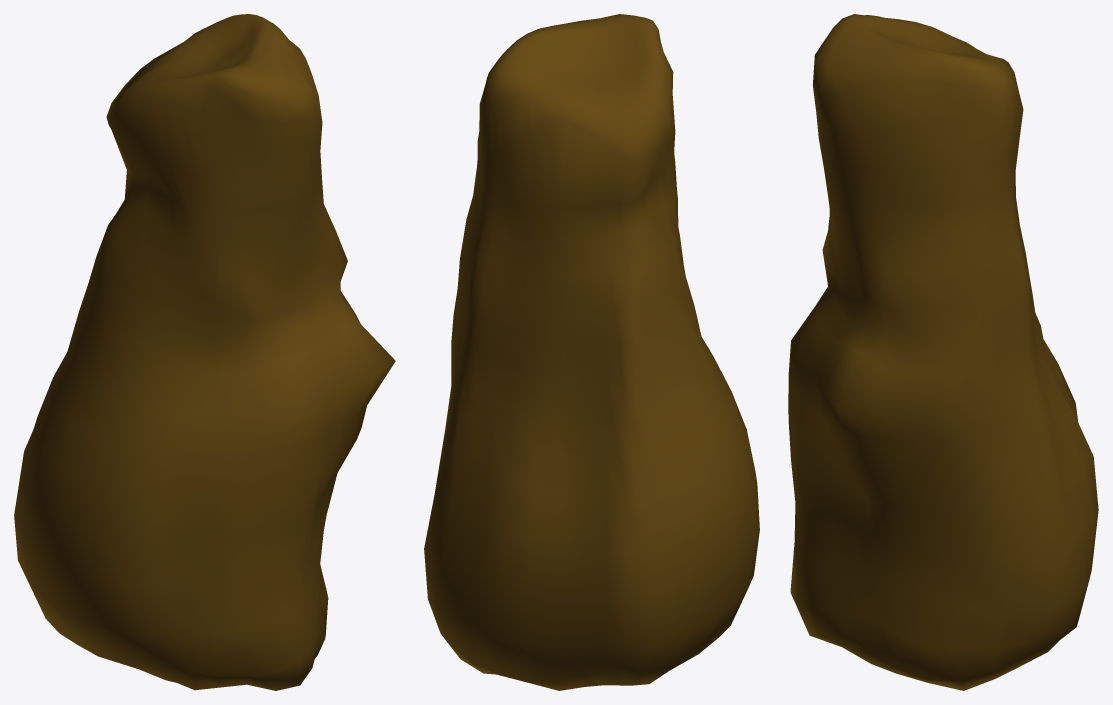
The model's file is obstacle-2.glb.
3 renders of one model, left to right at view 1: azimuth 30°, elevation 25°; view 2: azimuth 150°, elevation 25°; view 3: azimuth 270°, elevation 25°, orthographic. The views are drawn at different scales.
Parts seen in each view (by area): view 1: Plane; view 2: Plane; view 3: Plane.
Part boxes in pixels (x1,y1,x2,y2): Plane: (14, 14, 395, 690); Plane: (424, 14, 759, 690); Plane: (788, 14, 1098, 690).
Size of the model in its own units: 7.8 by 15.98 by 7.22.
